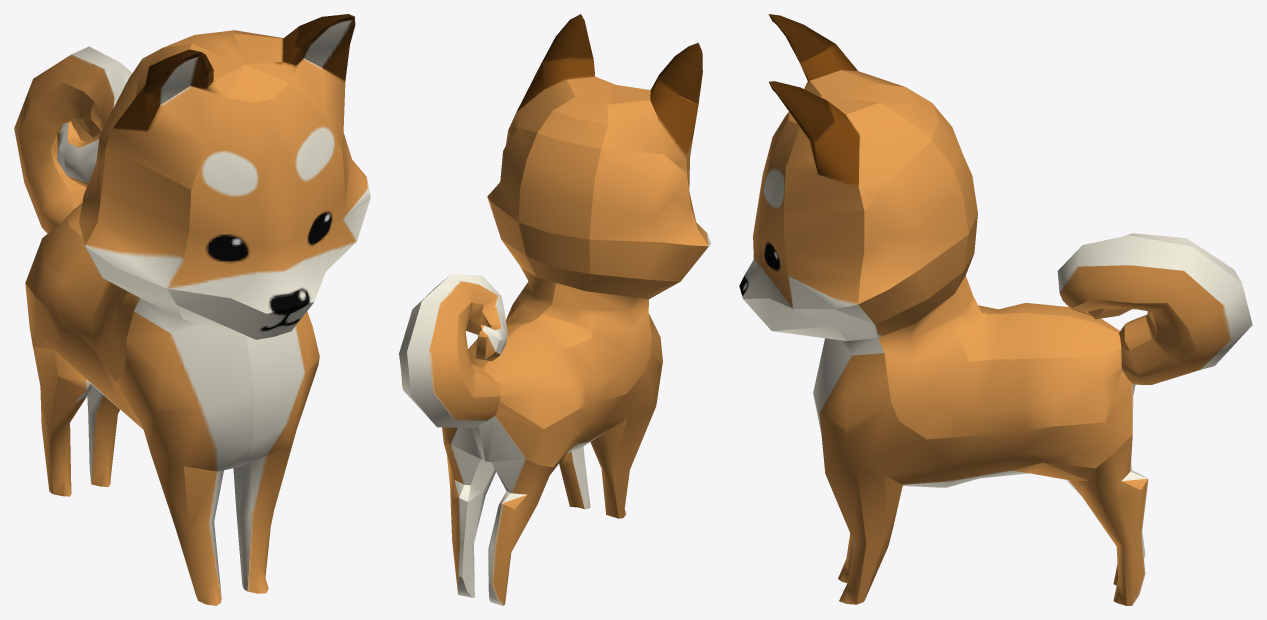
File: tailWagging_frame14.obj
3 renders of one model, left to right at view 1: azimuth 30°, elevation 25°; view 2: azimuth 150°, elevation 25°; view 3: azimuth 270°, elevation 25°, orthographic. The views are drawn at different scales.
Parts seen in each view (by area): view 1: newRigging:BodzL1; view 2: newRigging:BodzL1; view 3: newRigging:BodzL1.
Boxes of the visible parts, bbox=[...] form: newRigging:BodzL1: bbox=[14, 14, 370, 605]; newRigging:BodzL1: bbox=[399, 14, 710, 605]; newRigging:BodzL1: bbox=[739, 14, 1252, 605].
Bounding box in the file's own units: 3.91 × 7.94 × 6.81.
Materials: 1 (1 with a texture image).
